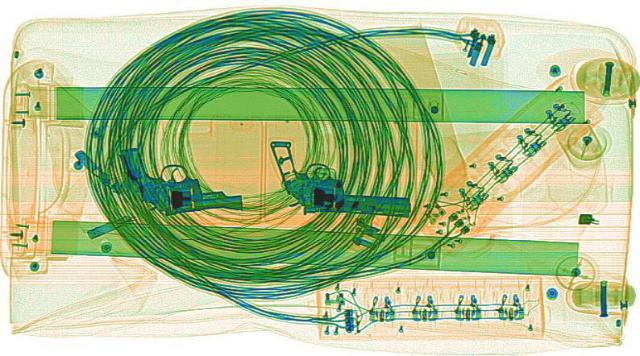Gun: (247, 138, 429, 216), (110, 137, 246, 217)
